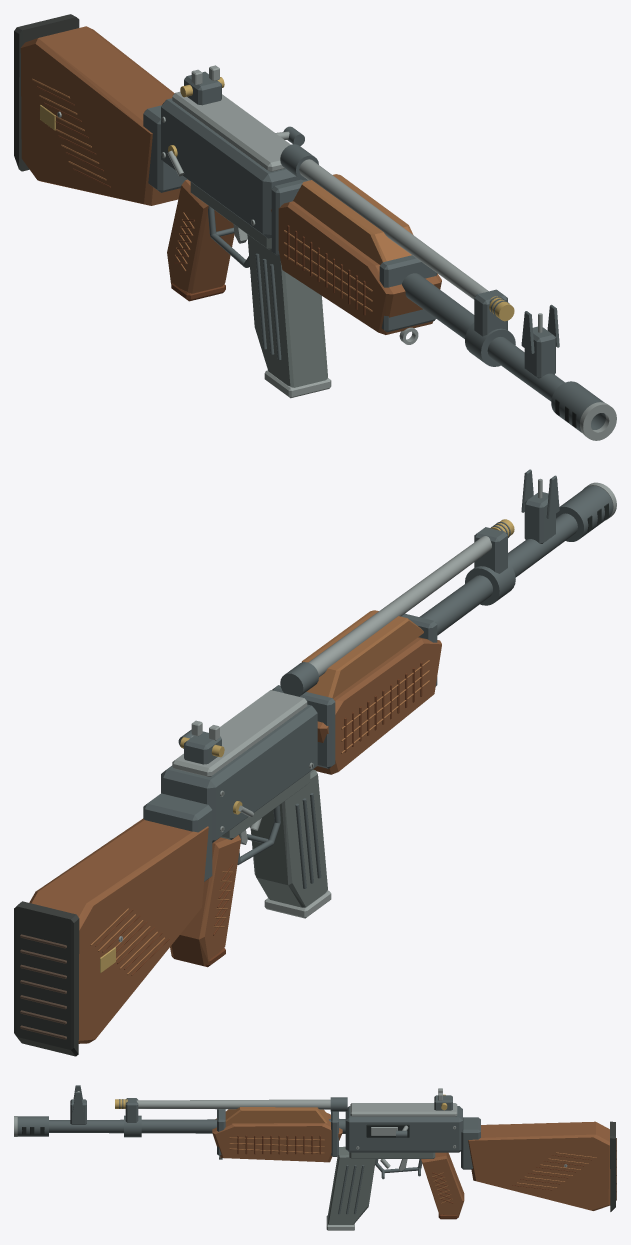
File: rifle.glb
3 renders of one model, top to bottom at view 1: azimuth 30°, elevation 25°; view 2: azimuth 150°, elevation 25°; view 3: azimuth 270°, elevation 25°, orthographic. The views are drawn at different scales.
Visible parts, largest first — view 1: Walnut buttstock, Walnut handguard, Receiver, Magazine, Walnut pistol grip, Upper handguard, Barrel, Gas tube, Receiver top rail, Rubber recoil pad, Handguard forward band, Stock socket (+15 smaller); view 2: Walnut buttstock, Receiver, Rubber recoil pad, Walnut handguard, Magazine, Walnut pistol grip, Upper handguard, Receiver top rail, Gas tube, Barrel, Stock socket, Muzzle sleeve (+10 smaller); view 3: Walnut buttstock, Walnut handguard, Receiver, Magazine, Barrel, Walnut pistol grip, Gas tube, Upper handguard, Receiver top rail, Stock socket, Stock wood grain (×2), Lower receiver (+16 smaller).
Boxes of the visible parts, x1,y1,x2,y2 form: Walnut buttstock: [20, 26, 180, 205]; Walnut handguard: [271, 201, 441, 334]; Receiver: [161, 98, 300, 238]; Magazine: [247, 234, 327, 387]; Walnut pistol grip: [167, 179, 234, 293]; Upper handguard: [293, 174, 413, 264]; Barrel: [402, 273, 564, 401]; Gas tube: [299, 159, 488, 299]; Receiver top rail: [172, 91, 290, 171]; Rubber recoil pad: [14, 14, 79, 171]; Handguard forward band: [379, 255, 437, 332]; Stock socket: [143, 105, 187, 192]; Walnut buttstock: [29, 818, 208, 1043]; Receiver: [161, 704, 317, 842]; Rubber recoil pad: [14, 901, 79, 1056]; Walnut handguard: [313, 637, 441, 774]; Magazine: [250, 769, 327, 907]; Walnut pistol grip: [170, 835, 240, 965]; Upper handguard: [301, 610, 423, 698]; Receiver top rail: [172, 690, 307, 776]; Gas tube: [308, 536, 491, 676]; Barrel: [419, 513, 577, 635]; Stock socket: [143, 793, 212, 881]; Muzzle sleeve: [556, 485, 612, 541]; Walnut buttstock: [468, 1121, 610, 1210]; Walnut handguard: [212, 1112, 342, 1162]; Receiver: [345, 1106, 462, 1152]; Magazine: [327, 1146, 375, 1224]; Barrel: [49, 1119, 345, 1133]; Walnut pistol grip: [421, 1152, 464, 1216]; Gas tube: [136, 1099, 330, 1109]; Upper handguard: [225, 1107, 327, 1123]; Receiver top rail: [350, 1103, 457, 1116]; Stock socket: [461, 1117, 480, 1169]; Stock wood grain (×2): [512, 1152, 596, 1190]; Lower receiver: [349, 1152, 435, 1158].
Size of the model in its own units: 0.0987 by 0.251 by 0.9977.
